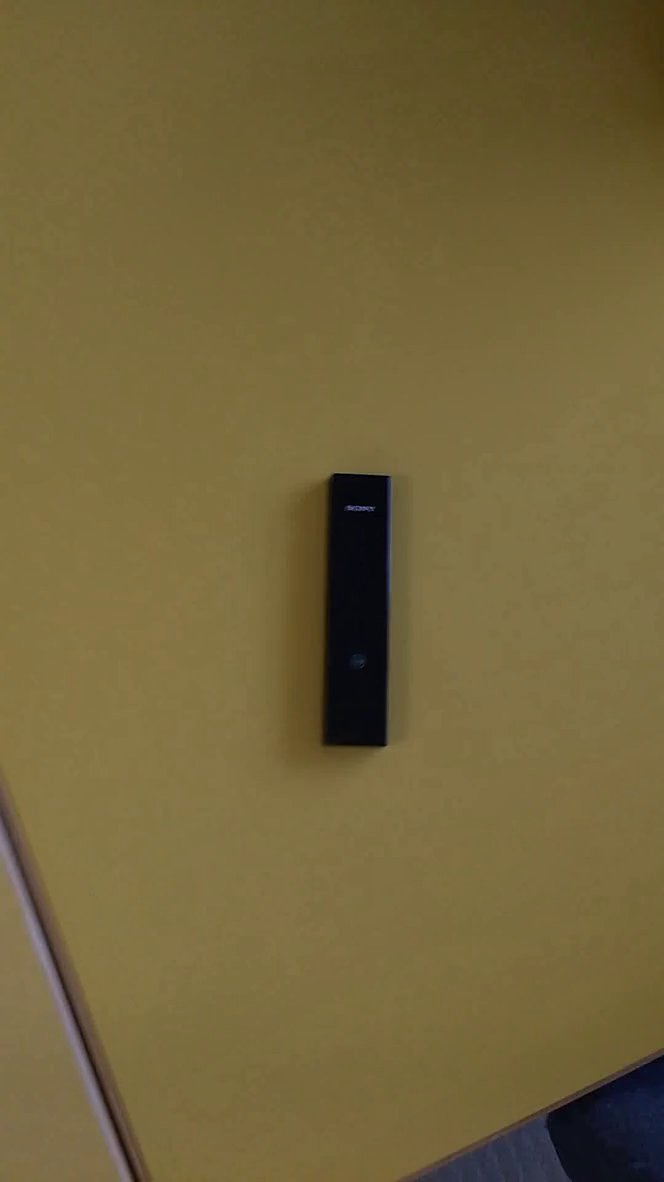remote: (310, 463, 410, 766)
